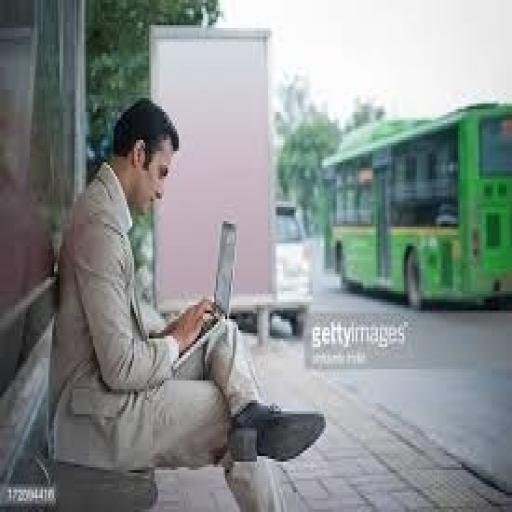sitting: (48, 92, 326, 498)
